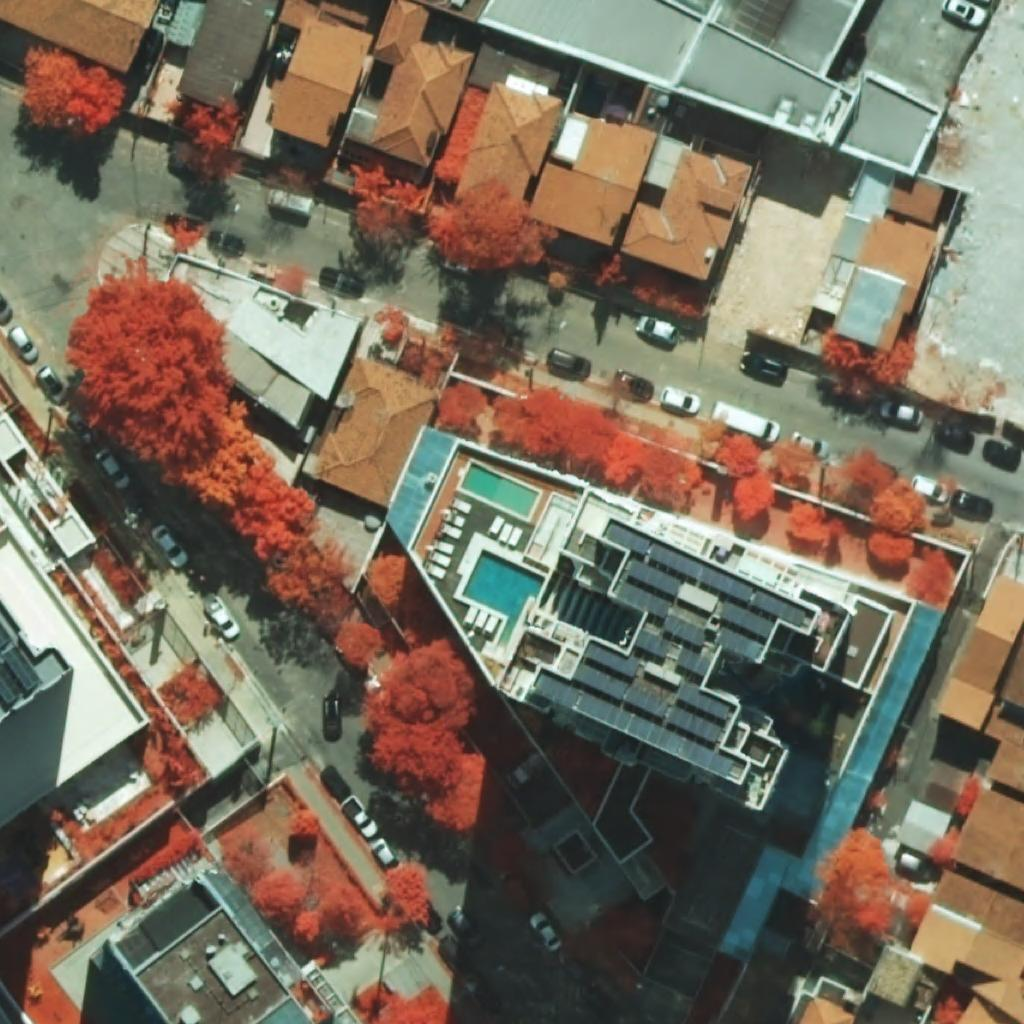pool: (462, 549, 546, 646), (460, 461, 539, 518)
